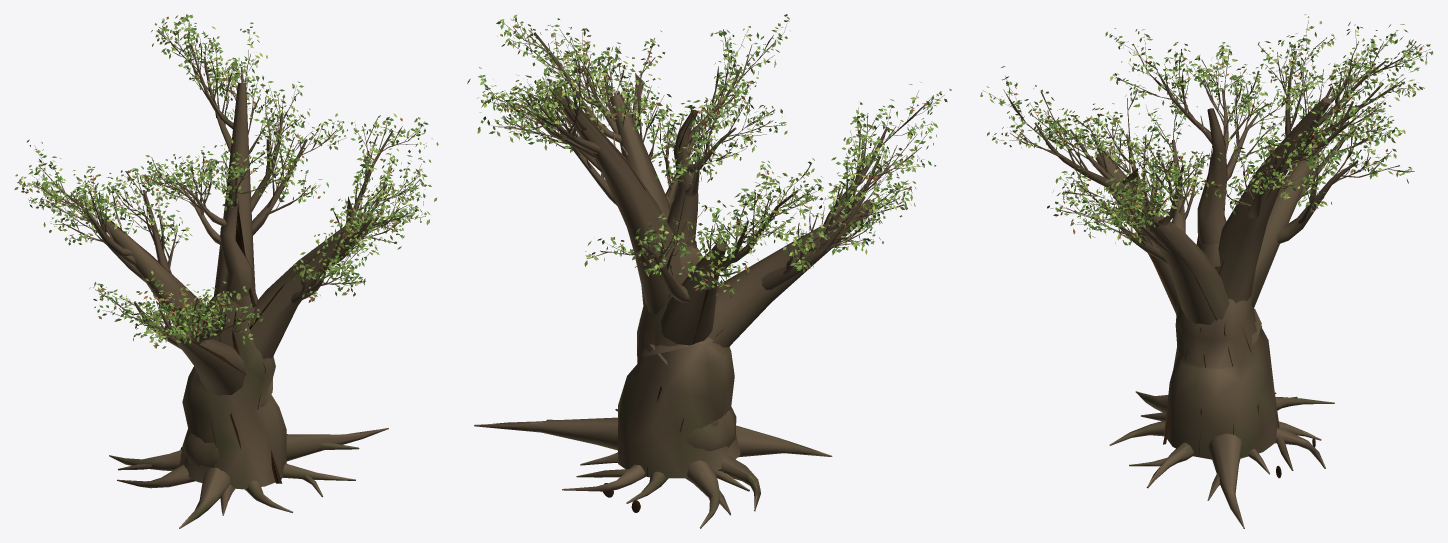
File: ancient_tree_10_lod2.glb
The picture shows the model from 3 angles, left to right: view 1: azimuth 30°, elevation 25°; view 2: azimuth 150°, elevation 25°; view 3: azimuth 270°, elevation 25°; orthographic projection. The views are drawn at different scales.
Visible parts, largest first — view 1: AncientTreeWood_LOD2, AncientLeaves_LOD2, FineBranches_LOD2, DirectedBarkGrooves_LOD2; view 2: AncientTreeWood_LOD2, AncientLeaves_LOD2, FineBranches_LOD2, DirectedBarkGrooves_LOD2; view 3: AncientTreeWood_LOD2, AncientLeaves_LOD2, FineBranches_LOD2, DirectedBarkGrooves_LOD2.
Boxes of the visible parts, left/top/right/bottom form: AncientTreeWood_LOD2: left=32, top=20, right=419, bottom=528; AncientLeaves_LOD2: left=14, top=14, right=438, bottom=348; FineBranches_LOD2: left=19, top=18, right=426, bottom=339; DirectedBarkGrooves_LOD2: left=107, top=83, right=361, bottom=483; AncientTreeWood_LOD2: left=474, top=26, right=930, bottom=528; AncientLeaves_LOD2: left=467, top=14, right=951, bottom=298; FineBranches_LOD2: left=483, top=18, right=944, bottom=290; DirectedBarkGrooves_LOD2: left=560, top=91, right=868, bottom=476; AncientTreeWood_LOD2: left=1003, top=39, right=1421, bottom=528; AncientLeaves_LOD2: left=980, top=14, right=1433, bottom=245; FineBranches_LOD2: left=983, top=20, right=1430, bottom=241; DirectedBarkGrooves_LOD2: left=1096, top=104, right=1327, bottom=456.
Bounding box in the file's own units: 18.22 × 21.11 × 19.31.
